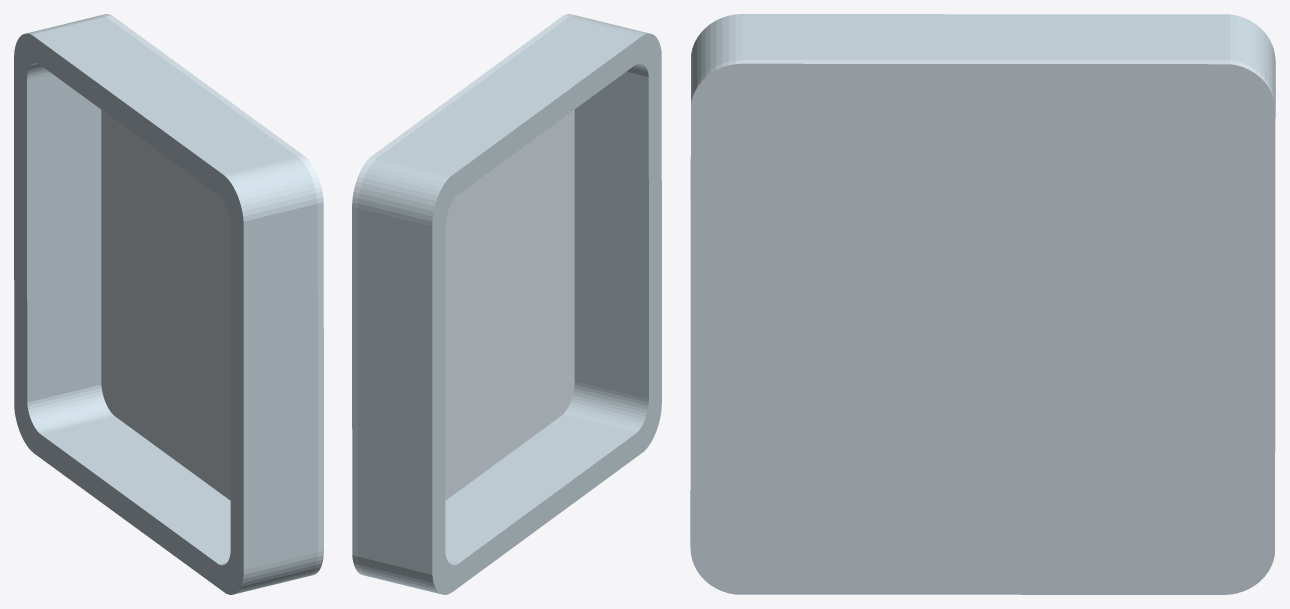
The model's file is cover.glb.
3 renders of one model, left to right at view 1: azimuth 30°, elevation 25°; view 2: azimuth 150°, elevation 25°; view 3: azimuth 270°, elevation 25°, orthographic. The views are drawn at different scales.
Visible parts, largest first — view 1: cover rim, clear lid; view 2: cover rim, clear lid; view 3: clear lid, cover rim.
Part boxes in pixels (box(x1,y1,x2,y2)): cover rim: box(14, 15, 317, 594); clear lid: box(100, 14, 323, 575); cover rim: box(358, 15, 661, 594); clear lid: box(352, 14, 575, 575); clear lid: box(690, 60, 1275, 594); cover rim: box(690, 14, 1275, 535).
Bounding box in the file's own units: 0.0134 × 0.0667 × 0.0665.
